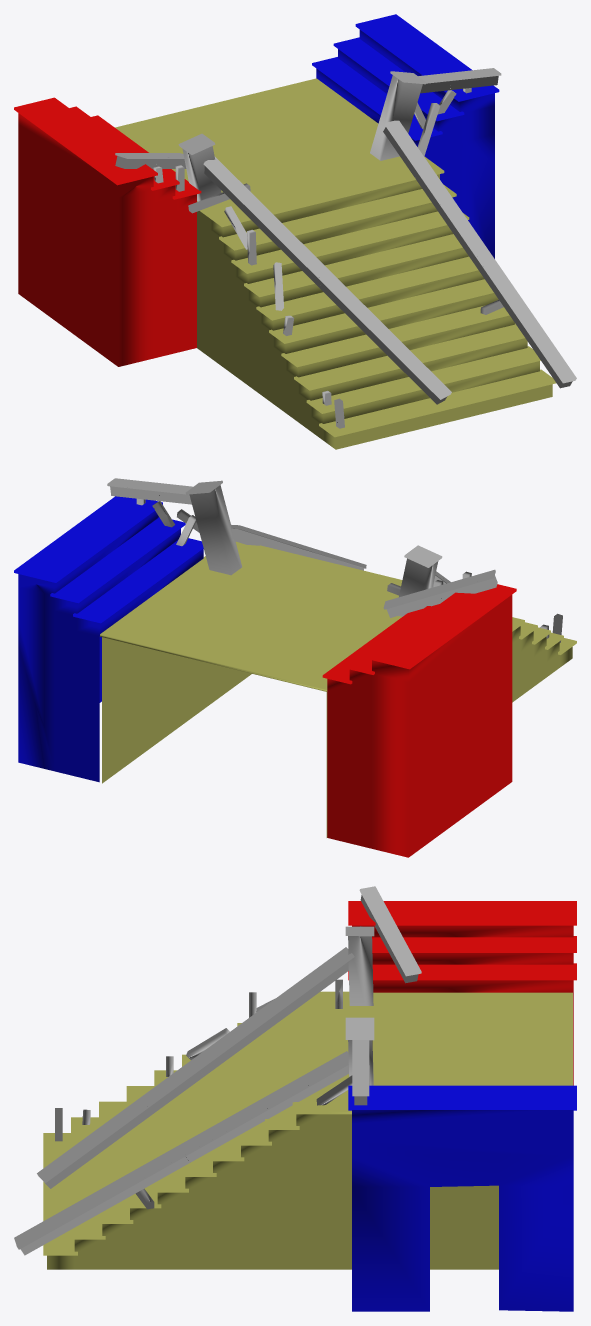
File: Stairs_BROKEN.fbx
The picture shows the model from 3 angles, top to bottom: view 1: azimuth 30°, elevation 25°; view 2: azimuth 150°, elevation 25°; view 3: azimuth 270°, elevation 25°; orthographic projection. The views are drawn at different scales.
Parts seen in each view (by area): view 1: Main_Stair2, Stairs_Left, Stairs_Left1, polySurface58, polySurface41, polySurface47, polySurface53, polySurface44, polySurface59; view 2: Main_Stair2, Stairs_Left, Stairs_Left1, polySurface47, polySurface59, polySurface41, polySurface44, polySurface53; view 3: Main_Stair2, Stairs_Left1, Stairs_Left, polySurface58, polySurface41, polySurface59, polySurface53, polySurface44, polySurface47.
Part boxes in pixels (bbox=[...]): Main_Stair2: bbox=[115, 78, 555, 449]; Stairs_Left: bbox=[14, 97, 201, 366]; Stairs_Left1: bbox=[312, 14, 499, 258]; polySurface58: bbox=[203, 156, 451, 404]; polySurface41: bbox=[383, 120, 576, 388]; polySurface47: bbox=[370, 71, 426, 160]; polySurface53: bbox=[178, 133, 221, 201]; polySurface44: bbox=[418, 68, 501, 93]; polySurface59: bbox=[115, 153, 186, 168]; Main_Stair2: bbox=[100, 541, 576, 837]; Stairs_Left: bbox=[322, 584, 516, 857]; Stairs_Left1: bbox=[14, 496, 203, 782]; polySurface47: bbox=[185, 480, 242, 575]; polySurface59: bbox=[383, 569, 497, 617]; polySurface41: bbox=[231, 524, 366, 570]; polySurface44: bbox=[107, 478, 192, 504]; polySurface53: bbox=[398, 545, 442, 616]; Main_Stair2: bbox=[43, 991, 572, 1269]; Stairs_Left1: bbox=[348, 1085, 576, 1311]; Stairs_Left: bbox=[348, 901, 576, 1085]; polySurface58: bbox=[37, 947, 354, 1188]; polySurface41: bbox=[14, 1051, 348, 1255]; polySurface59: bbox=[359, 886, 421, 983]; polySurface53: bbox=[345, 926, 374, 1005]; polySurface44: bbox=[352, 1040, 369, 1105]; polySurface47: bbox=[345, 1017, 374, 1085].
Bounding box in the file's own units: 712 × 390 × 813.
